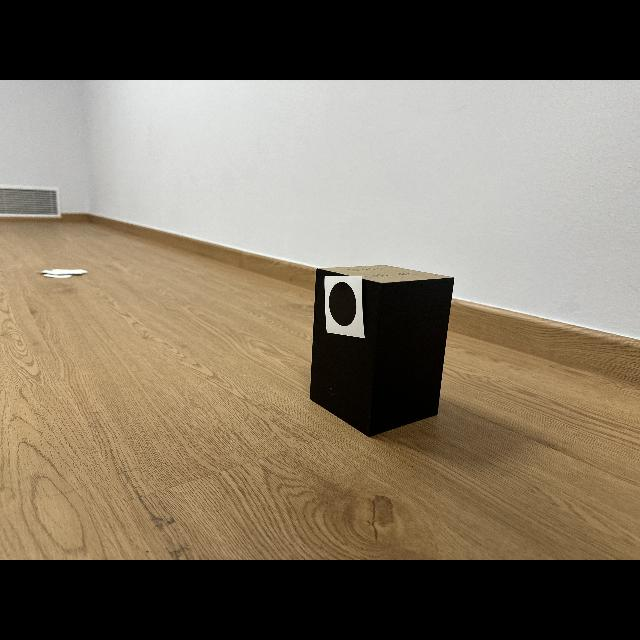CIRCLE: (329, 282, 356, 326)
